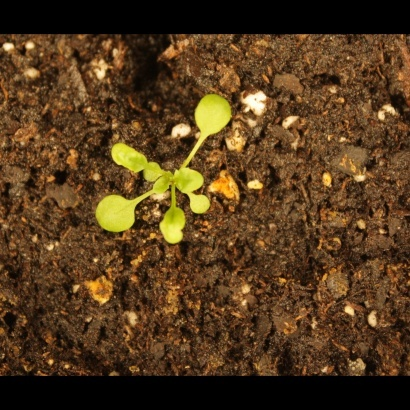leaf: (190, 83, 238, 141), (90, 191, 142, 237), (157, 201, 189, 248), (109, 136, 148, 174), (186, 191, 218, 223), (173, 167, 209, 193), (140, 160, 163, 183), (150, 173, 173, 196)
